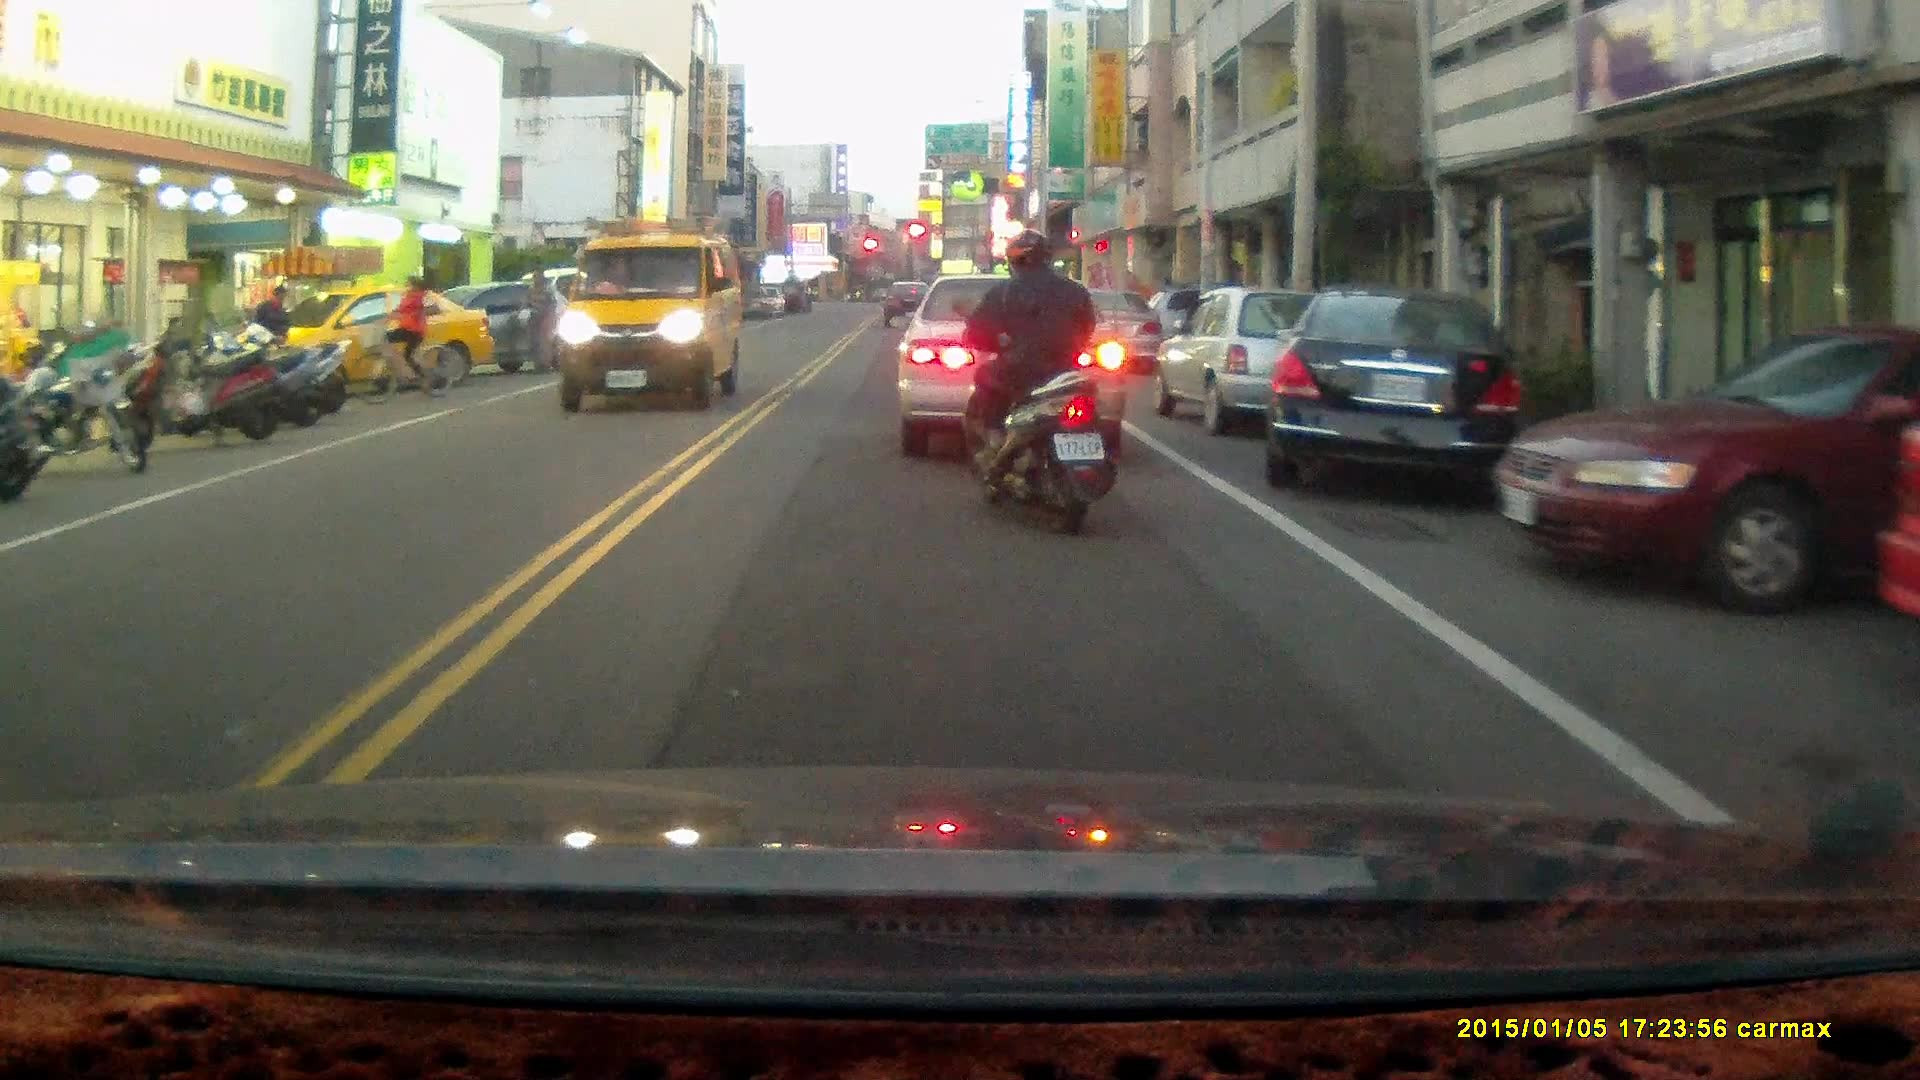pedestrian: (518, 267, 557, 373), (251, 283, 293, 378)
rider: (952, 230, 1116, 540), (352, 274, 455, 407)
vehicle: (1495, 324, 1920, 624), (1272, 285, 1533, 506), (904, 268, 1139, 452), (554, 219, 744, 412), (1147, 286, 1368, 439), (274, 288, 496, 394), (1872, 393, 1920, 674)
